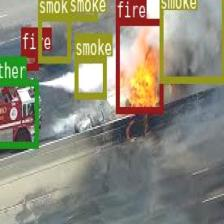fire: (116, 18, 162, 112), (21, 50, 37, 69)
smoke: (159, 0, 224, 81), (38, 14, 70, 62), (74, 56, 106, 97), (69, 0, 97, 20)
